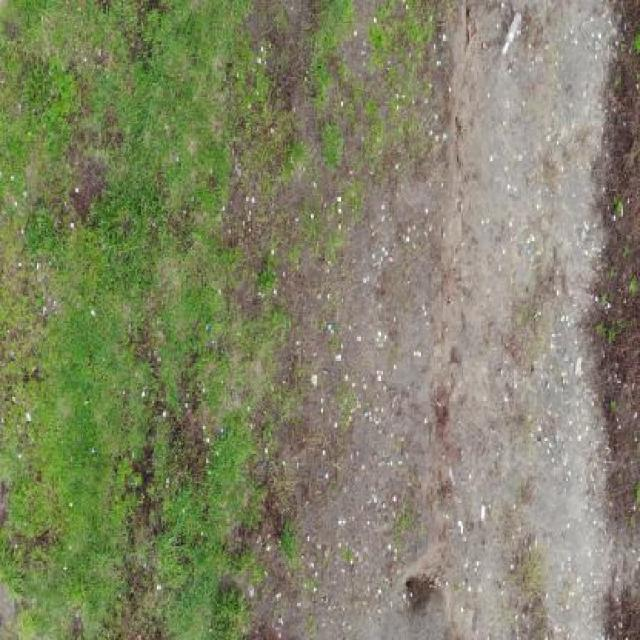Garbage: (502, 11, 522, 57)
